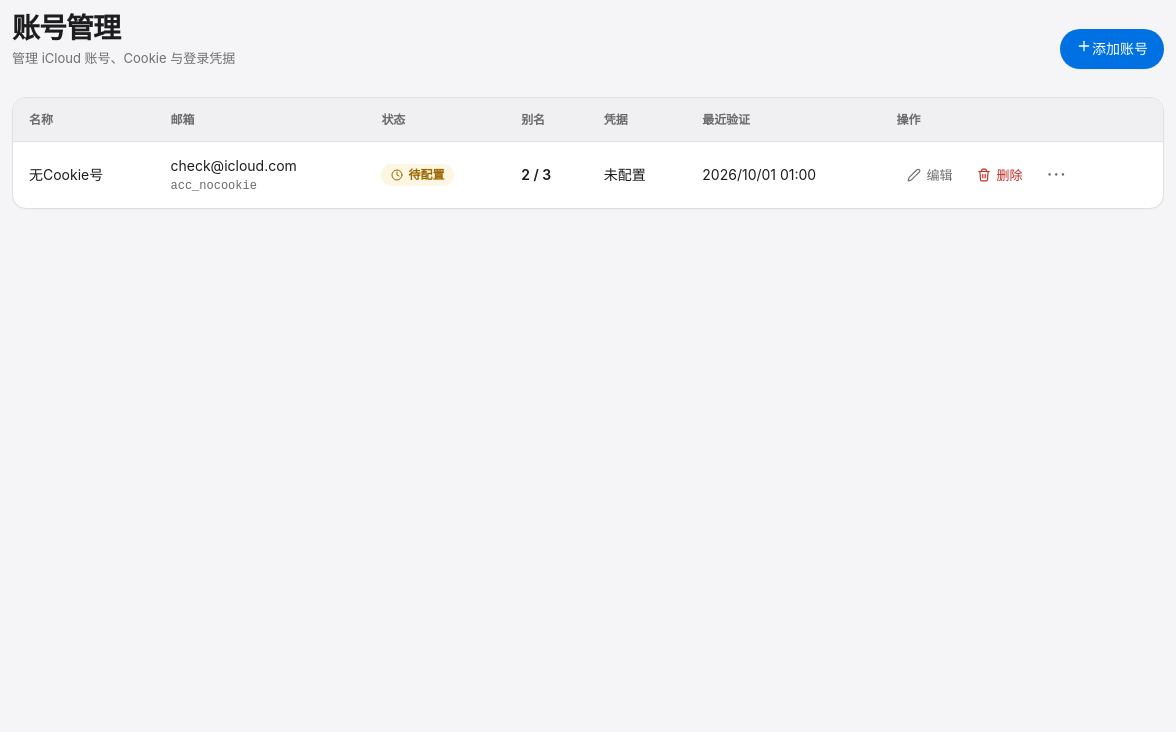
Test: AccountsPage 登录态检测 › 无 Cookie 的账号: 检测按钮禁用或给出提示
Expected: the text "无Cookie号" is shown, x1=29 y1=166 x2=103 y2=183
Click the button named "更多操作" at point(1057, 175), box x1=1037 y1=155 x2=1077 y2=195
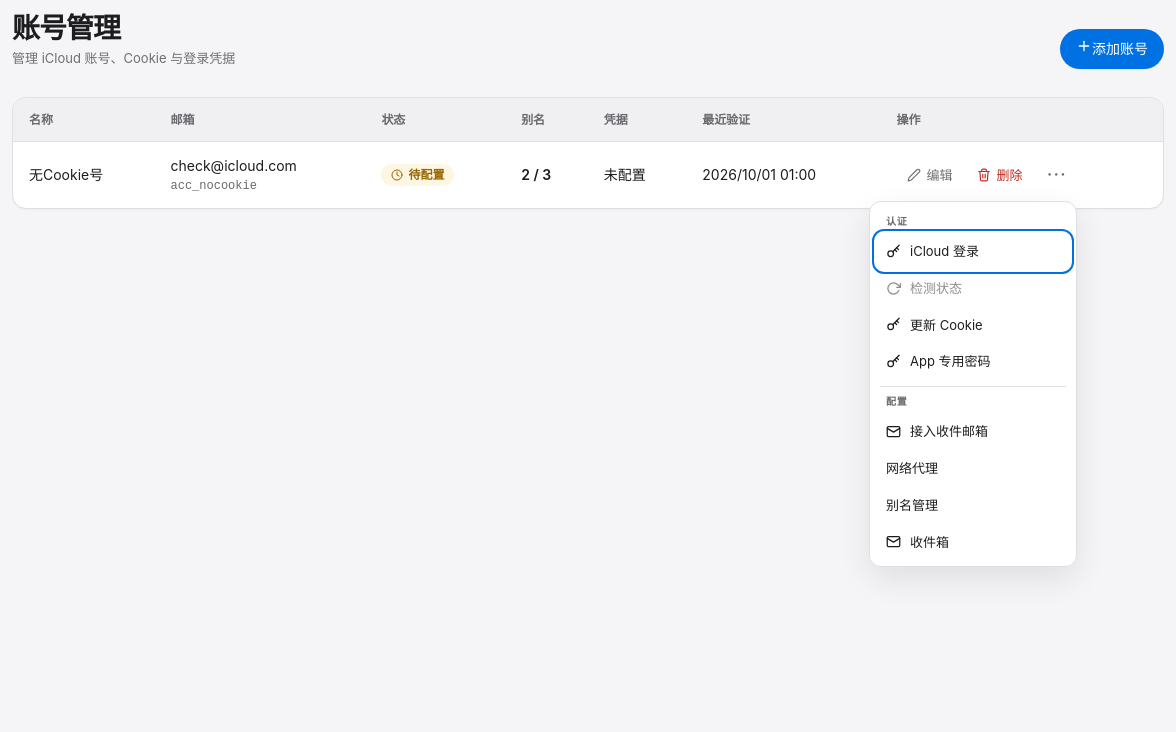
Result: the menu item "检测状态" is disabled at x1=876 y1=270 x2=1070 y2=307
